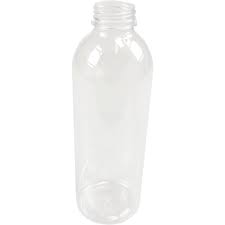available: (70, 2, 152, 225)
